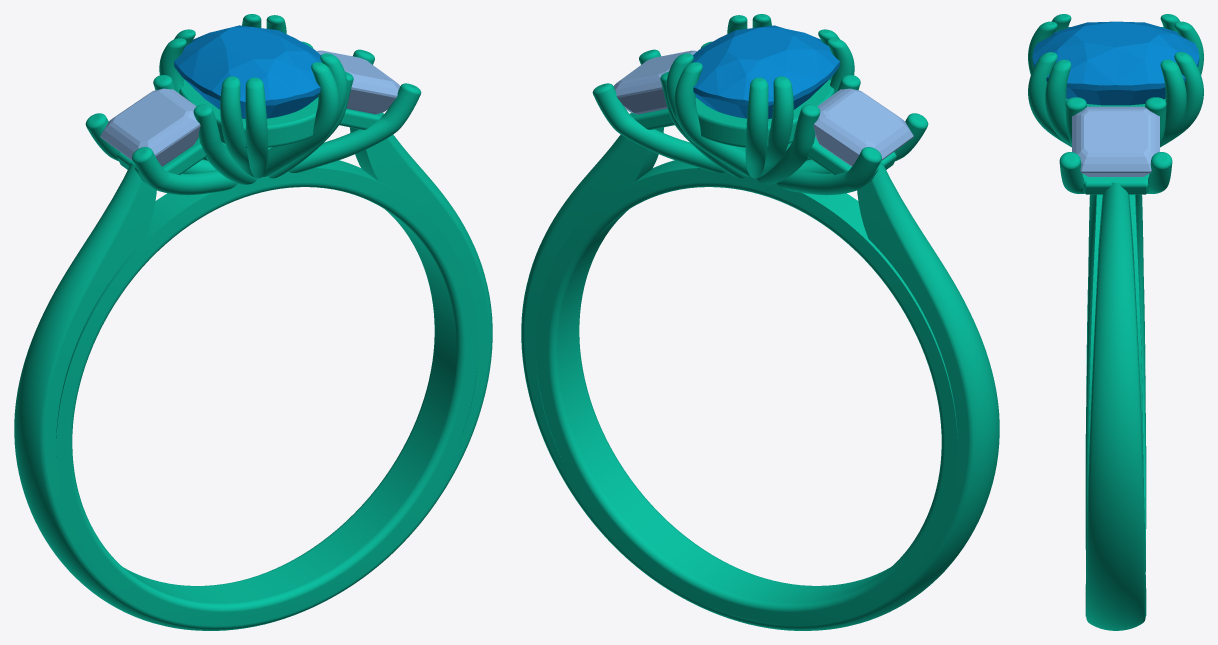
The picture shows the model from 3 angles, left to right: view 1: azimuth 30°, elevation 25°; view 2: azimuth 150°, elevation 25°; view 3: azimuth 270°, elevation 25°; orthographic projection.
Parts seen in each view (by area): view 1: LR083 3(front).3dm, Diamond_Cushion, Diamond_Emerald (×2); view 2: LR083 3(front).3dm, Diamond_Cushion, Diamond_Emerald (×2); view 3: LR083 3(front).3dm, Diamond_Cushion, Diamond_Emerald.
Part boxes in pixels (bbox=[...]): LR083 3(front).3dm: bbox=[14, 14, 492, 630]; Diamond_Cushion: bbox=[174, 25, 321, 118]; Diamond_Emerald (×2): bbox=[100, 50, 400, 166]; LR083 3(front).3dm: bbox=[521, 14, 999, 630]; Diamond_Cushion: bbox=[692, 25, 839, 118]; Diamond_Emerald (×2): bbox=[613, 50, 913, 166]; LR083 3(front).3dm: bbox=[1028, 14, 1203, 630]; Diamond_Cushion: bbox=[1032, 21, 1199, 105]; Diamond_Emerald: bbox=[1072, 106, 1159, 176].
Size of the model in its own units: 2.53 by 2.99 by 0.8339.
